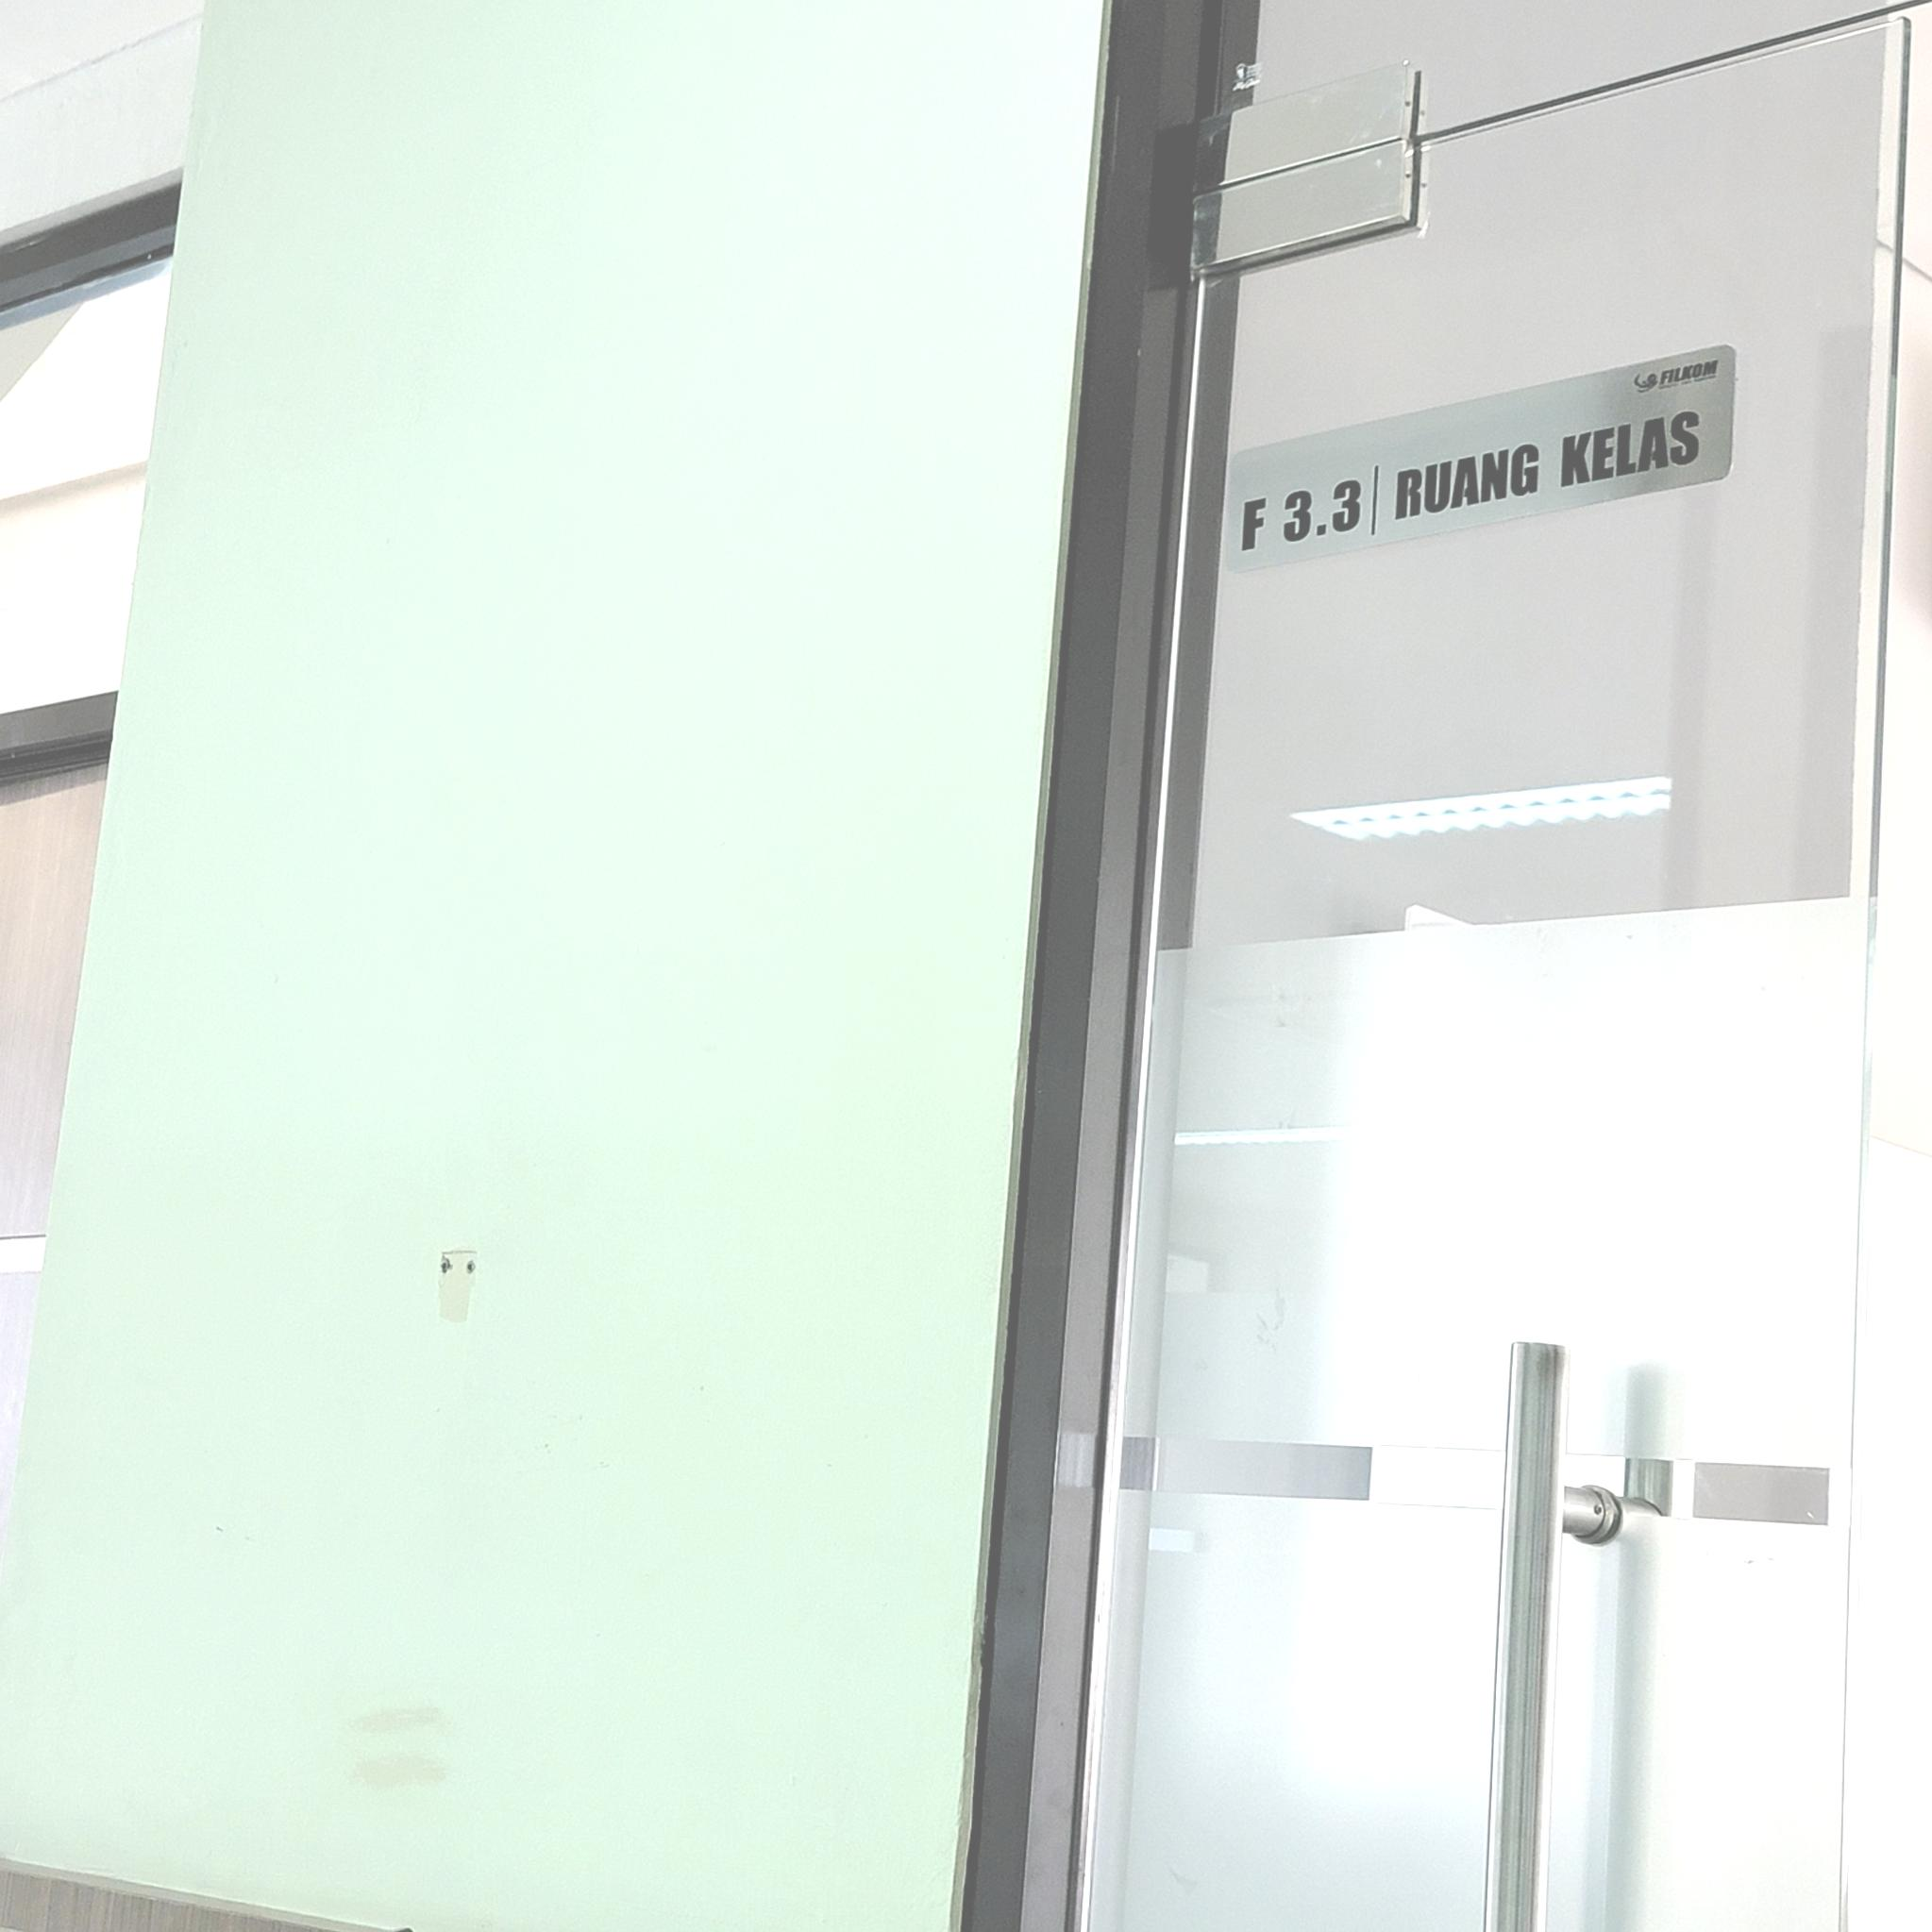plate: (1224, 343, 1739, 577)
